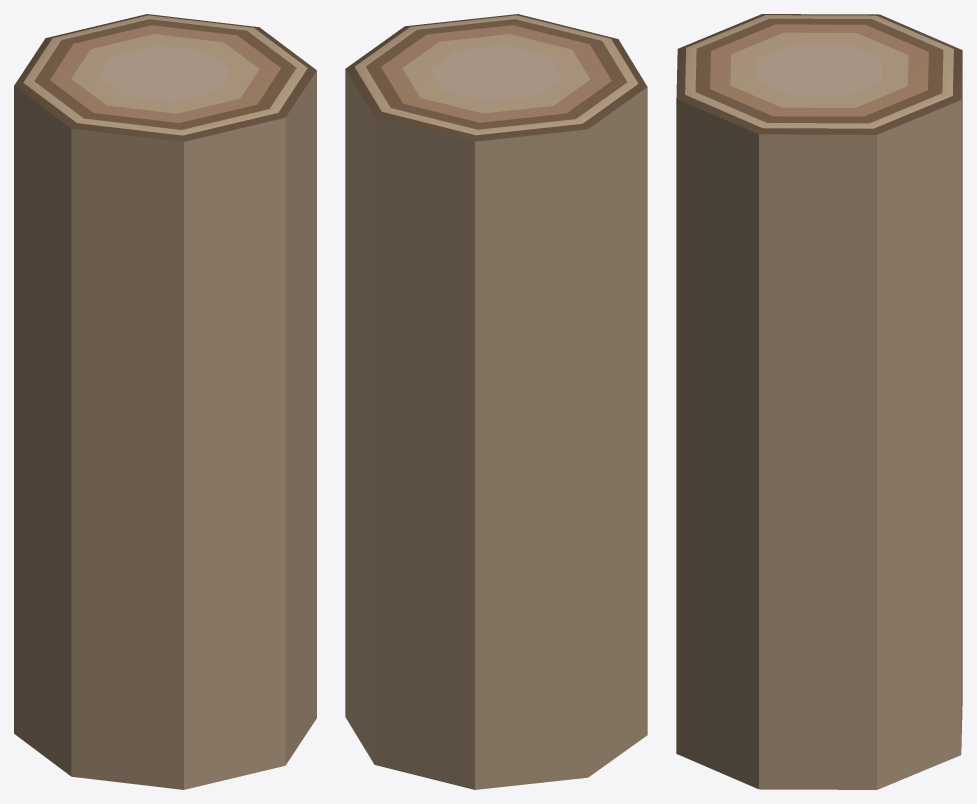
Rendered from latest fence post.fbx.
3 renders of one model, left to right at view 1: azimuth 30°, elevation 25°; view 2: azimuth 150°, elevation 25°; view 3: azimuth 270°, elevation 25°, orthographic.
Parts seen in each view (by area): view 1: pasted__pCylinder1; view 2: pasted__pCylinder1; view 3: pasted__pCylinder1.
Boxes of the visible parts, bbox=[...] form: pasted__pCylinder1: bbox=[14, 14, 316, 789]; pasted__pCylinder1: bbox=[345, 14, 647, 789]; pasted__pCylinder1: bbox=[676, 14, 962, 789].
Bounding box in the file's own units: 85.38 × 217 × 85.38.
